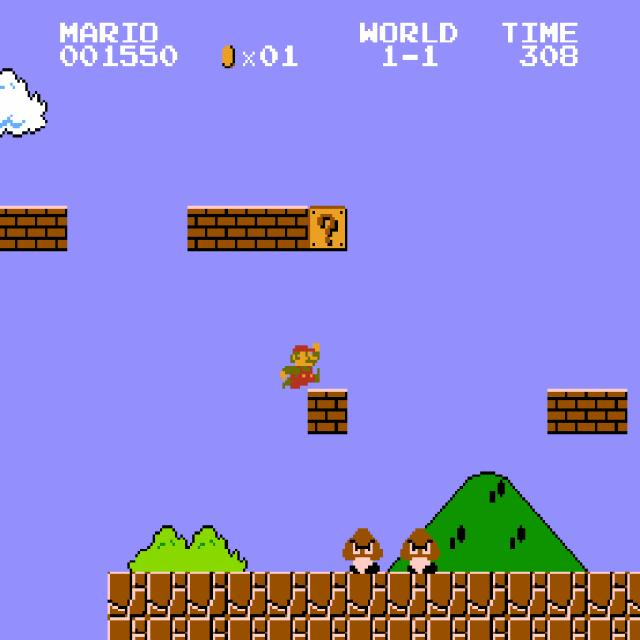brick_block: (27, 206, 68, 251), (187, 206, 228, 251), (227, 206, 268, 251), (267, 206, 308, 251), (307, 389, 348, 434), (547, 389, 588, 434), (587, 389, 628, 434), (0, 206, 28, 251)
goomba: (340, 526, 382, 574), (398, 526, 440, 574)
little_mario: (277, 340, 320, 389)
mystery_block: (307, 206, 348, 251)
undestructible_block: (107, 572, 148, 617), (147, 572, 188, 617), (187, 572, 228, 617), (227, 572, 268, 617), (267, 572, 308, 617), (307, 572, 348, 617), (347, 572, 388, 617), (387, 572, 428, 617), (427, 572, 468, 617), (467, 572, 508, 617), (507, 572, 548, 617), (547, 572, 588, 617), (587, 572, 628, 617), (107, 617, 148, 640), (147, 617, 188, 640), (187, 617, 228, 640), (227, 617, 268, 640), (267, 617, 308, 640), (307, 617, 348, 640), (347, 617, 388, 640), (387, 617, 428, 640), (427, 617, 468, 640), (467, 617, 508, 640), (507, 617, 548, 640), (547, 617, 588, 640), (587, 617, 628, 640), (627, 572, 640, 617), (627, 617, 640, 640)
